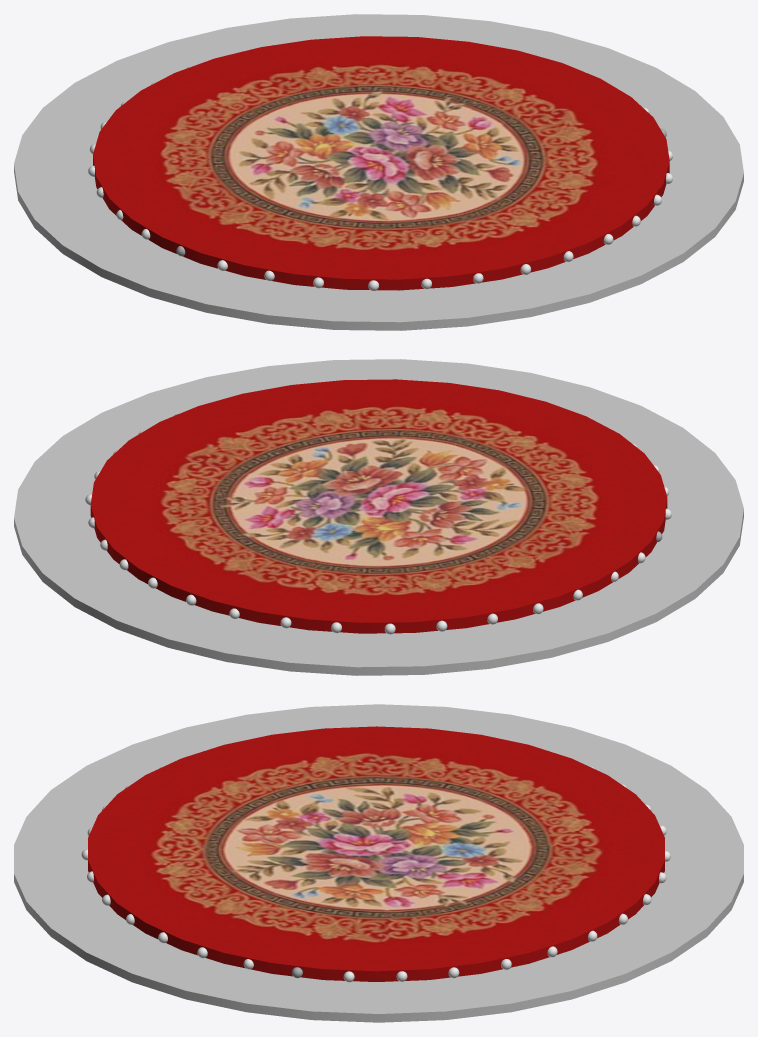
The model's file is LandBase.fbx.
3 views of the same model, one above another, from view 1: azimuth 30°, elevation 25°; view 2: azimuth 150°, elevation 25°; view 3: azimuth 270°, elevation 25° (orthographic).
Parts seen in each view (by area): view 1: polySurface4163; view 2: polySurface4163; view 3: polySurface4163.
Boxes of the visible parts, x1=… form: polySurface4163: x1=14, y1=14, x2=743, y2=330; polySurface4163: x1=14, y1=359, x2=743, y2=675; polySurface4163: x1=14, y1=704, x2=743, y2=1022.
Bounding box in the file's own units: 15.53 × 0.4565 × 15.46.
